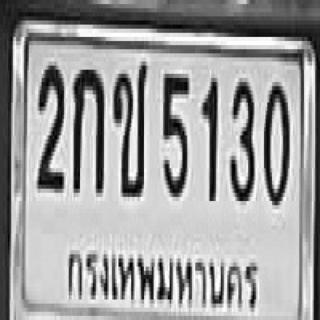A01: (72, 66, 102, 189)
A10: (112, 58, 146, 193)
N00: (262, 78, 288, 201)
N01: (200, 74, 216, 197)
N02: (35, 62, 62, 189)
N03: (229, 78, 253, 201)
N05: (162, 70, 187, 193)
P04: (63, 236, 263, 320)
